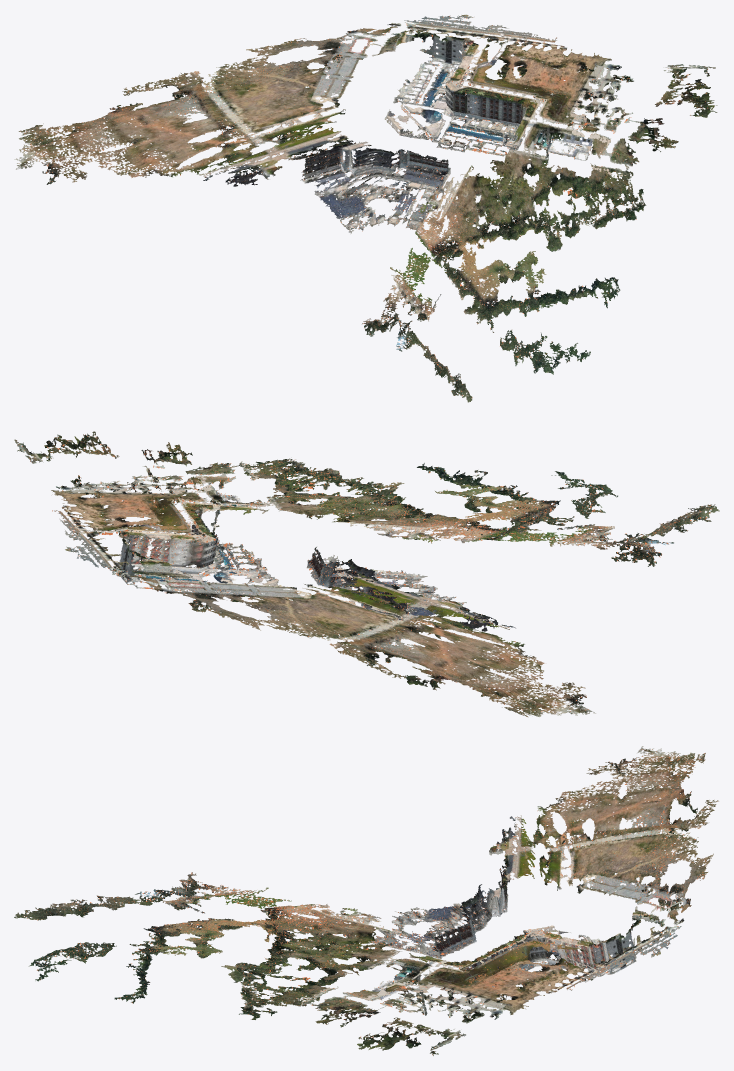
Rendered from hybrid_textured.glb.
3 renders of one model, top to bottom at view 1: azimuth 30°, elevation 25°; view 2: azimuth 150°, elevation 25°; view 3: azimuth 270°, elevation 25°, orthographic. The views are drawn at different scales.
Visible parts, largest first — view 1: node; view 2: node; view 3: node.
Part boxes in pixels (x1,y1,x2,y2): node: (14, 14, 717, 402); node: (14, 431, 719, 717); node: (14, 746, 718, 1055).
Bounding box in the file's own units: 31.2 × 5.51 × 28.18.
Materials: 1 (1 with a texture image).
